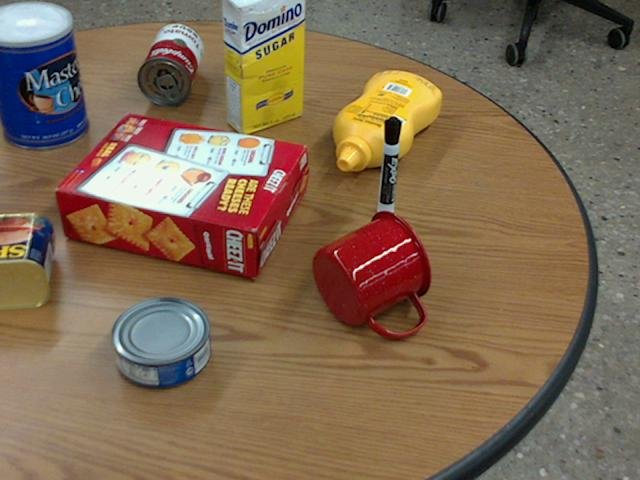cracker_box: (57, 113, 305, 277)
large_marker: (378, 116, 400, 216)
master_chef_can: (0, 1, 88, 148)
mug: (312, 210, 432, 336)
mustard_bottle: (333, 72, 440, 171)
potted_meat_can: (0, 211, 53, 308)
sugar_box: (222, 0, 304, 135)
tomato_soup_can: (137, 23, 201, 104)
tuna_fish_can: (109, 296, 208, 387)
